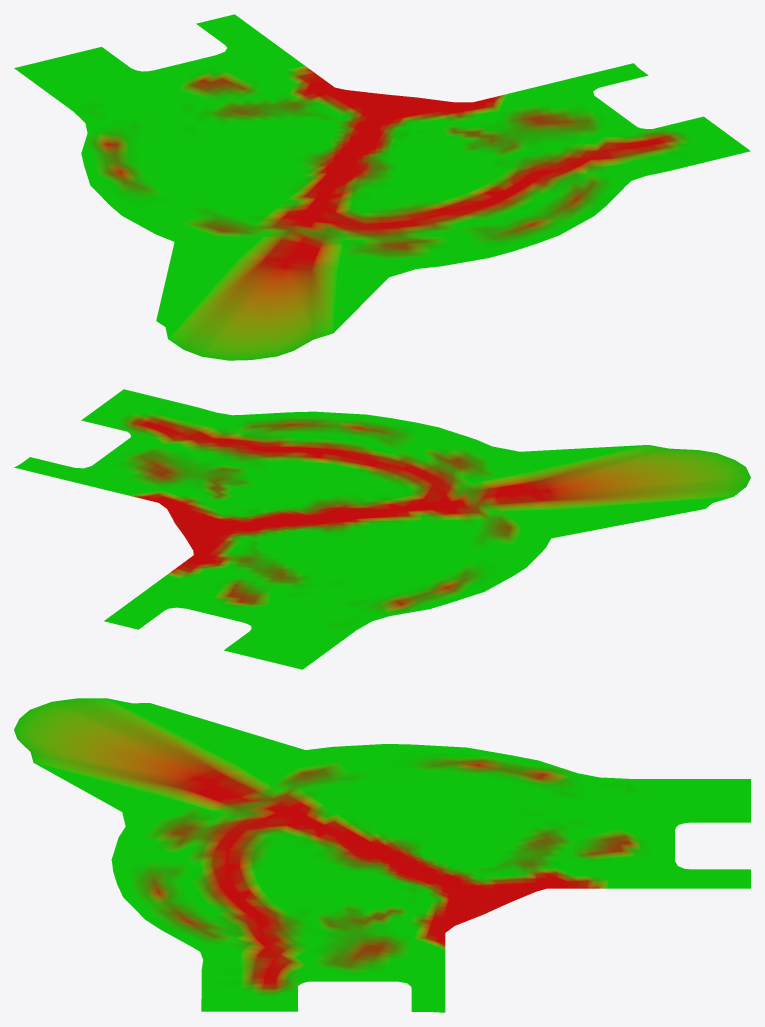
Rendered from pref_sm_garden_terrain_pinkgrass04b_lv3.fbx.
3 views of the same model, one above another, from view 1: azimuth 30°, elevation 25°; view 2: azimuth 150°, elevation 25°; view 3: azimuth 270°, elevation 25° (orthographic). The views are drawn at different scales.
Visible parts, largest first — view 1: pref_sm_garden_terrain_pinkgrass04b_lv3; view 2: pref_sm_garden_terrain_pinkgrass04b_lv3; view 3: pref_sm_garden_terrain_pinkgrass04b_lv3.
Boxes of the visible parts, left/top/right/bottom form: pref_sm_garden_terrain_pinkgrass04b_lv3: left=14, top=14, right=750, bottom=360; pref_sm_garden_terrain_pinkgrass04b_lv3: left=14, top=389, right=750, bottom=669; pref_sm_garden_terrain_pinkgrass04b_lv3: left=14, top=698, right=750, bottom=1012.
Size of the model in its own units: 54.57 by 0.00022 by 54.01.
